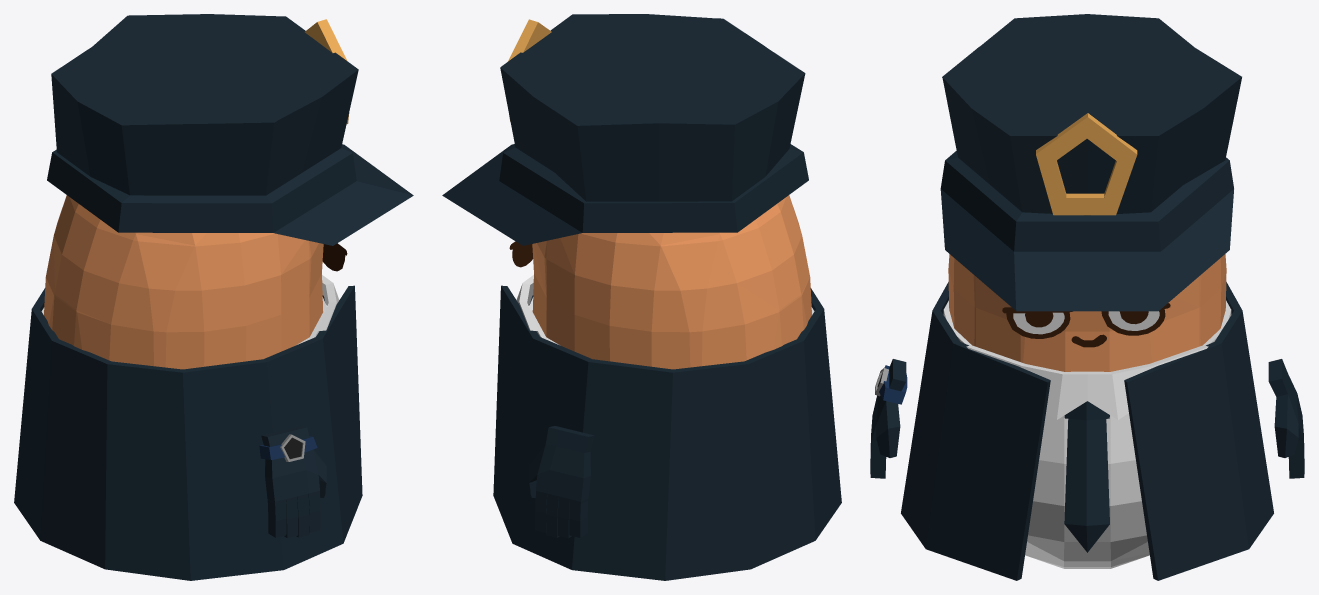
Rendered from Cop.fbx.
3 renders of one model, left to right at view 1: azimuth 30°, elevation 25°; view 2: azimuth 150°, elevation 25°; view 3: azimuth 270°, elevation 25°, orthographic. The views are drawn at different scales.
Visible parts, largest first — view 1: Cylinder.002, Cylinder, Potato, Cube, Cylinder.004, Cylinder.003, Plane, Cylinder.005; view 2: Cylinder.002, Cylinder, Potato, Cube.001, Cylinder.004, Cylinder.003; view 3: Cylinder, Cylinder.002, Potato, Mball.001, Cylinder.001, Cylinder.004, Cylinder.003, Plane, Cube, Cube.001.
Boxes of the visible parts, bbox=[...] form: Cylinder.002: bbox=[14, 285, 362, 580]; Cylinder: bbox=[47, 14, 413, 245]; Potato: bbox=[44, 195, 323, 369]; Cube: bbox=[259, 426, 326, 538]; Cylinder.004: bbox=[305, 19, 349, 123]; Cylinder.003: bbox=[318, 275, 339, 330]; Plane: bbox=[322, 243, 347, 271]; Cylinder.005: bbox=[280, 434, 305, 461]; Cylinder.002: bbox=[493, 285, 841, 580]; Cylinder: bbox=[442, 14, 808, 245]; Potato: bbox=[532, 195, 811, 369]; Cube.001: bbox=[529, 426, 594, 538]; Cylinder.004: bbox=[508, 19, 551, 121]; Cylinder.003: bbox=[516, 275, 537, 330]; Cylinder: bbox=[940, 14, 1241, 311]; Cylinder.002: bbox=[901, 282, 1273, 580]; Potato: bbox=[948, 254, 1226, 371]; Mball.001: bbox=[943, 300, 1231, 568]; Cylinder.001: bbox=[1064, 401, 1109, 552]; Cylinder.004: bbox=[1036, 113, 1137, 215]; Cylinder.003: bbox=[966, 345, 1208, 419]; Plane: bbox=[1002, 303, 1170, 347]; Cube: bbox=[870, 359, 907, 478]; Cube.001: bbox=[1268, 359, 1304, 478].
Size of the model in its own units: 360 by 490 by 389.
